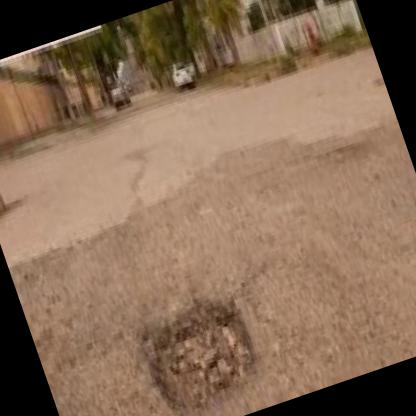pothole: (129, 285, 268, 416)
